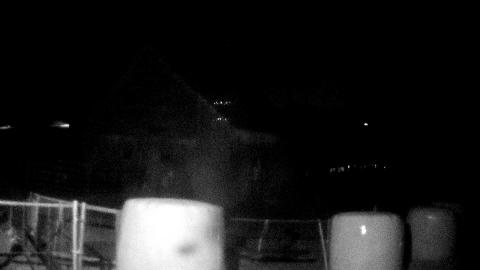sheep: (0, 224, 19, 262)
